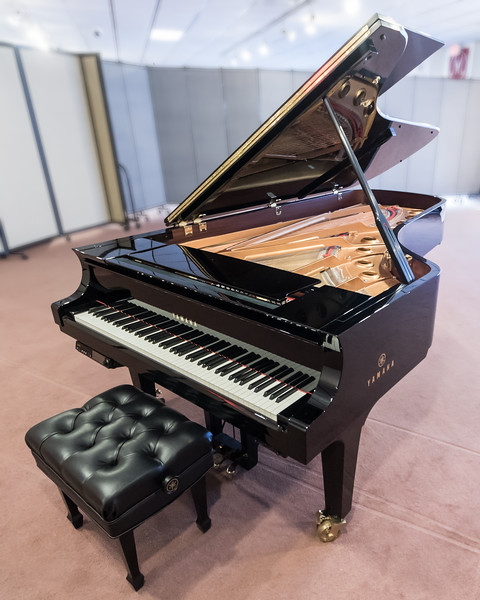GrandPiano: (37, 89, 459, 404)
